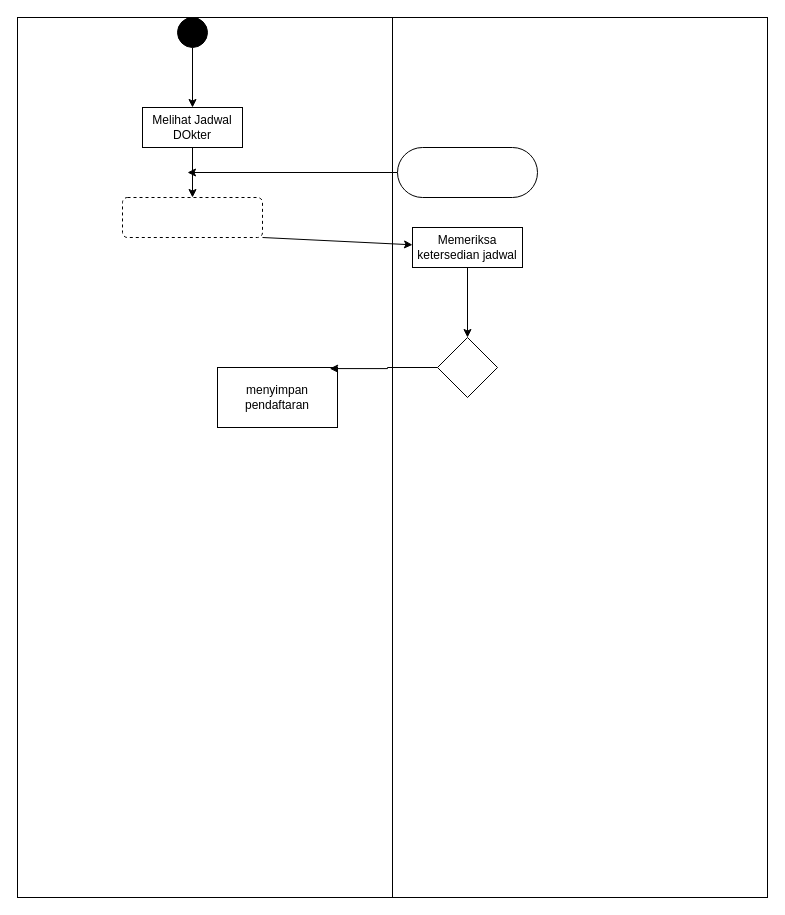
Image size: 785x915. Some labels were removed from this diagram. The shapes that lost their labels are listed below. From the top down, each one's centre as x and y in pixels, then its label:
At pixel 467 172: "Menampilkan jadwal Dokter".
At pixel 192 217: "memiilih jadwal".
